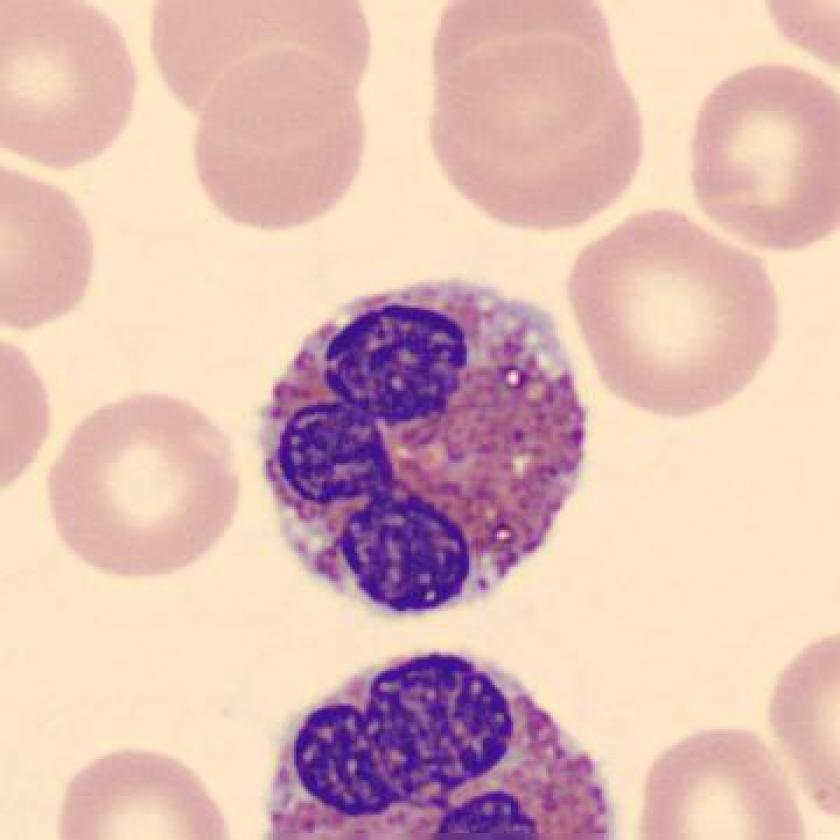eosinophil: (251, 265, 598, 630)
